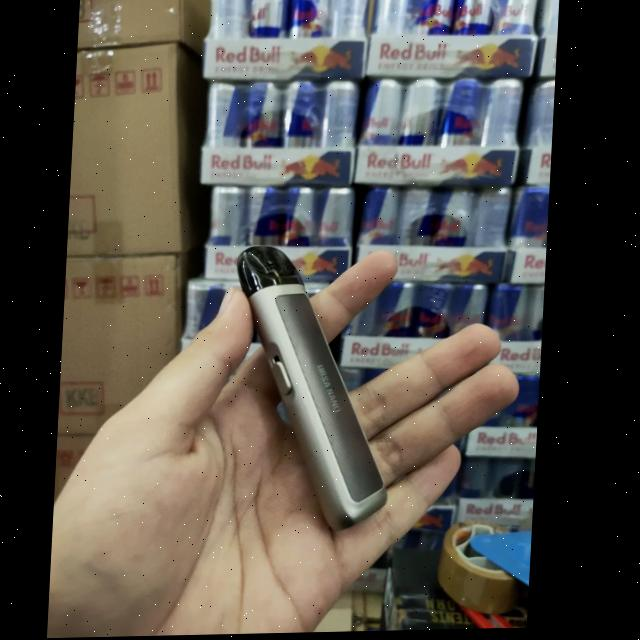vape: (228, 241, 403, 537)
